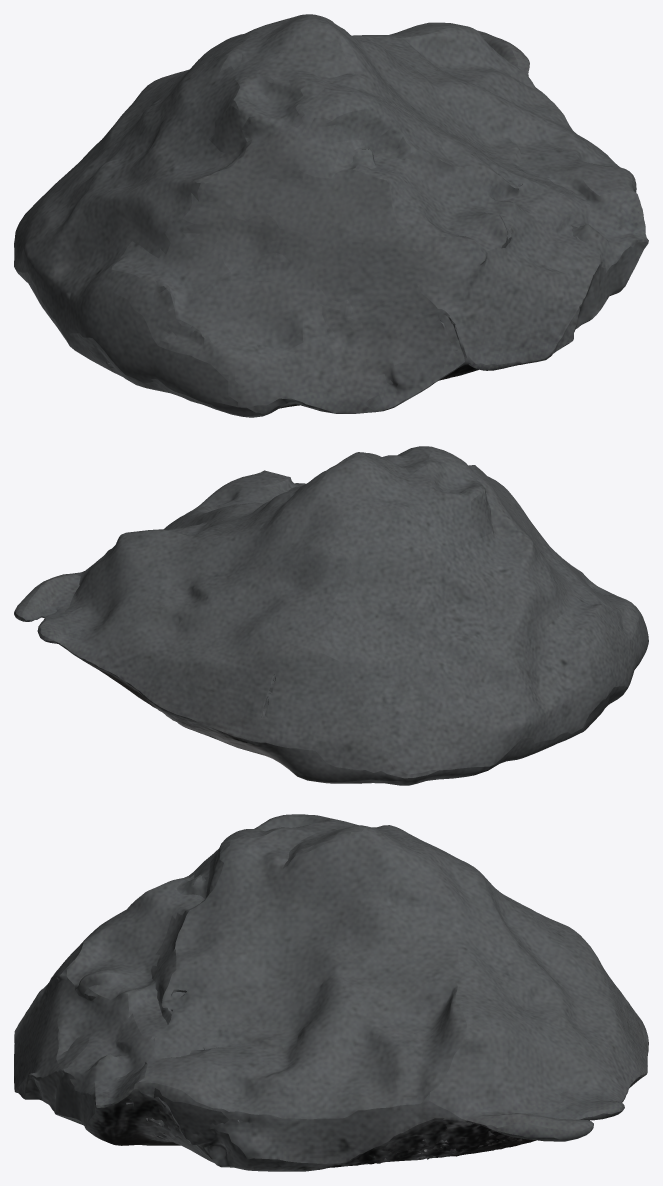
The picture shows the model from 3 angles, top to bottom: view 1: azimuth 30°, elevation 25°; view 2: azimuth 150°, elevation 25°; view 3: azimuth 270°, elevation 25°; orthographic projection. The views are drawn at different scales.
Parts seen in each view (by area): view 1: world; view 2: world; view 3: world.
Part boxes in pixels (x1,y1,x2,y2): world: (14,14,648,417); world: (14,446,648,785); world: (14,814,648,1171).
Size of the model in its own units: 1.2 by 0.5572 by 1.2.
1 material, 1 textured.
